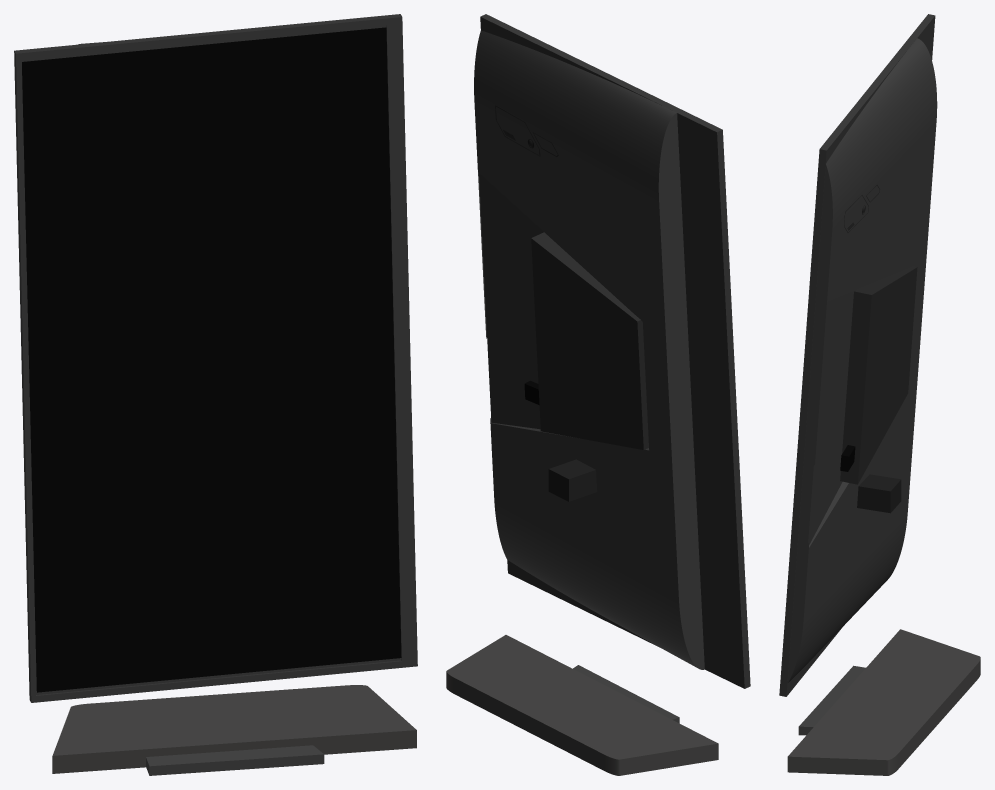
The model's file is MonitorVertical.glb.
3 renders of one model, left to right at view 1: azimuth 30°, elevation 25°; view 2: azimuth 150°, elevation 25°; view 3: azimuth 270°, elevation 25°, orthographic. The views are drawn at different scales.
Parts seen in each view (by area): view 1: MY SCREEN.001, Cube.079, Cube.096, Cube.097; view 2: Cube.082, Cube.079, Cube.092, Cube.096, Cube.093, Cube.097; view 3: Cube.082, Cube.096, Cube.092, Cube.079, Cube.093, Cube.097.
Part boxes in pixels (x1,y1,x2,y2): MY SCREEN.001: (22,27,401,692); Cube.079: (14,14,417,702); Cube.096: (52,685,416,773); Cube.097: (146,745,324,775); Cube.082: (474,30,704,669); Cube.079: (480,14,750,688); Cube.092: (531,232,648,449); Cube.096: (446,635,718,775); Cube.093: (548,459,597,501); Cube.097: (573,665,679,723); Cube.082: (787,38,937,682); Cube.096: (787,629,980,775); Cube.092: (840,266,917,484); Cube.079: (779,14,935,696); Cube.093: (857,474,901,513); Cube.097: (798,665,865,735).
Size of the model in its own units: 2.23 by 4.53 by 1.32.
Materials: 9 (1 with a texture image).
